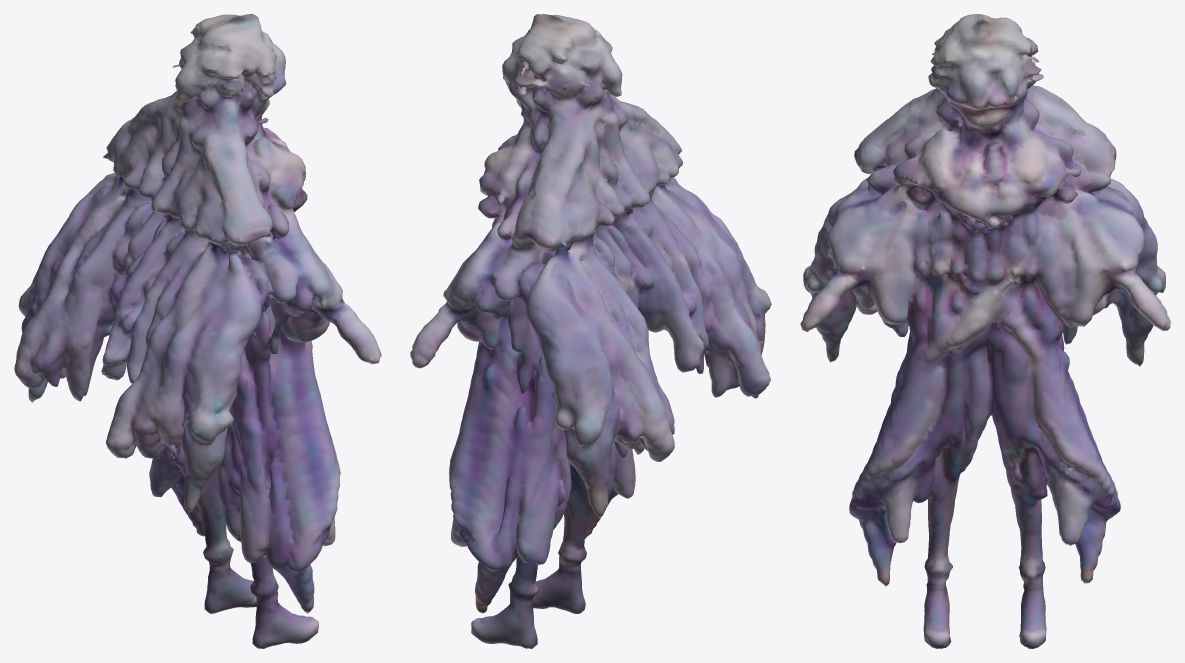
The model's file is sera-triposr-normalized.glb.
The picture shows the model from 3 angles, left to right: view 1: azimuth 30°, elevation 25°; view 2: azimuth 150°, elevation 25°; view 3: azimuth 270°, elevation 25°; orthographic projection.
Parts seen in each view (by area): view 1: Sera_AI_Unrigged; view 2: Sera_AI_Unrigged; view 3: Sera_AI_Unrigged.
Boxes of the visible parts, x1=… form: Sera_AI_Unrigged: x1=14, y1=14, x2=381, y2=648; Sera_AI_Unrigged: x1=410, y1=14, x2=771, y2=648; Sera_AI_Unrigged: x1=800, y1=14, x2=1170, y2=648.
Bounding box in the file's own units: 0.7965 × 2 × 1.11.
